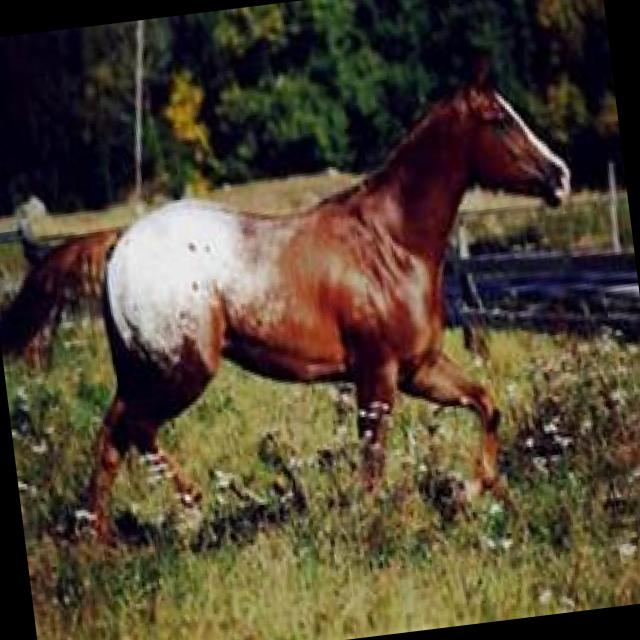horse: (0, 49, 613, 580)
